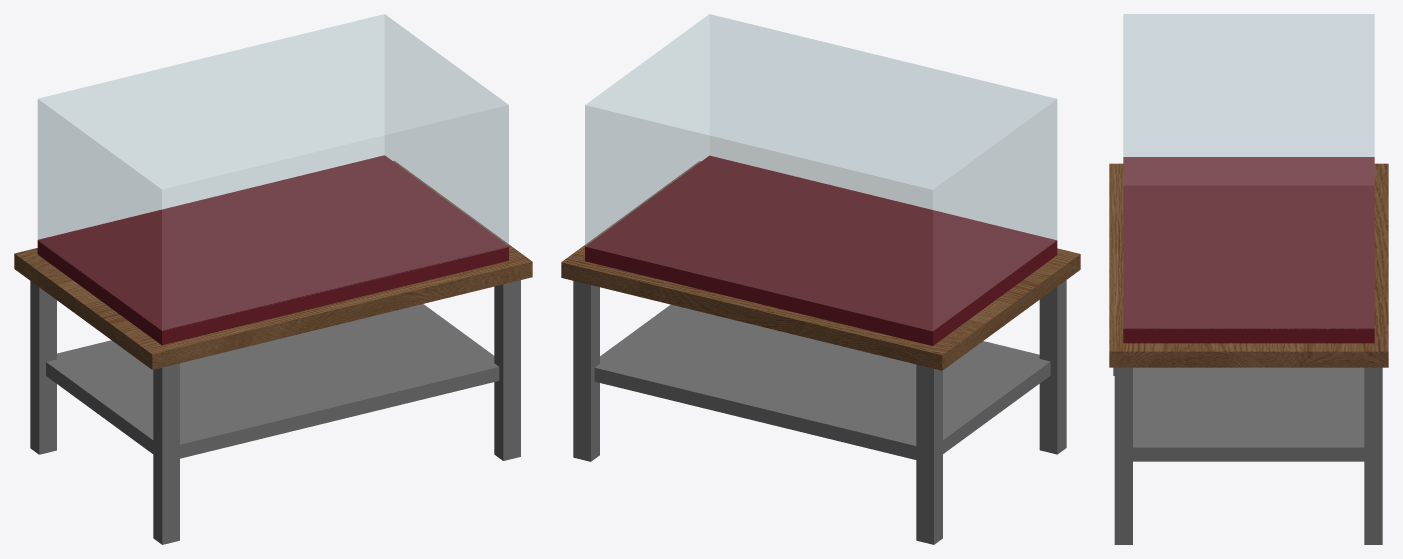
The model's file is Crab.fbx.
The picture shows the model from 3 angles, left to right: view 1: azimuth 30°, elevation 25°; view 2: azimuth 150°, elevation 25°; view 3: azimuth 270°, elevation 25°; orthographic projection.
Visible parts, largest first — view 1: Cube.118, Cube.119, Cube.110, Cube.111, Cube.109, Cube.106, Cube.108; view 2: Cube.118, Cube.119, Cube.110, Cube.111, Cube.108, Cube.107, Cube.109; view 3: Cube.118, Cube.119, Cube.110, Cube.111, Cube.107, Cube.106.
Part boxes in pixels (box(x1,y1,x2,y2)): Cube.118: box(37, 14, 508, 330); Cube.119: box(37, 155, 508, 345); Cube.110: box(46, 304, 499, 458); Cube.111: box(14, 160, 532, 369); Cube.109: box(153, 363, 179, 544); Cube.106: box(494, 280, 520, 460); Cube.108: box(30, 281, 56, 454); Cube.118: box(585, 14, 1057, 330); Cube.119: box(585, 155, 1057, 345); Cube.110: box(594, 304, 1050, 459); Cube.111: box(561, 161, 1080, 370); Cube.108: box(916, 364, 942, 544); Cube.107: box(573, 281, 599, 461); Cube.109: box(1039, 280, 1066, 454); Cube.118: box(1123, 14, 1374, 328); Cube.119: box(1123, 157, 1374, 343); Cube.110: box(1133, 367, 1364, 461); Cube.111: box(1109, 163, 1388, 367); Cube.107: box(1364, 367, 1382, 544); Cube.106: box(1114, 367, 1132, 544).
Size of the model in its own units: 861 by 759 by 541.
Materials: 6 (2 with a texture image).
